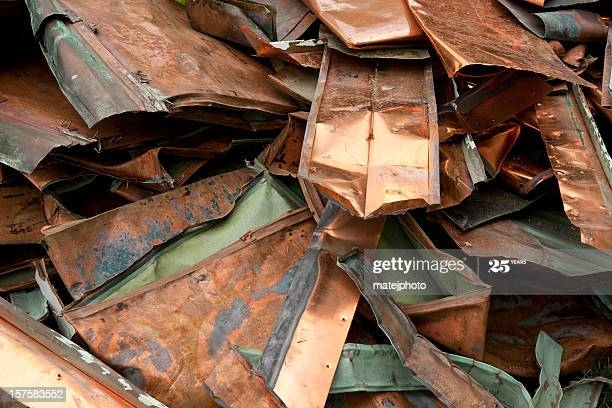metal: (34, 151, 395, 408), (19, 1, 323, 162), (291, 20, 447, 242), (339, 225, 507, 408), (406, 1, 604, 105), (288, 1, 441, 74)
